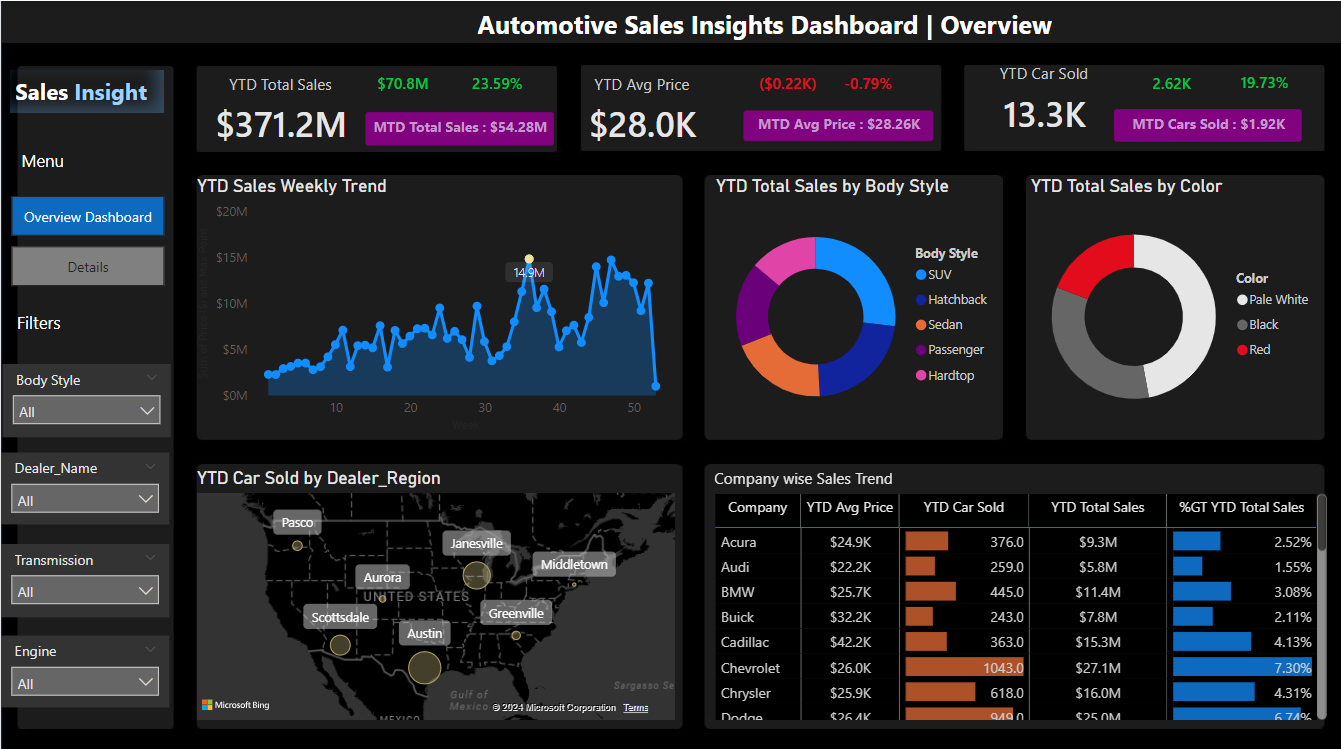

This screenshot's page, from the dashboard's own definition file:
{"tool":"powerbi","page":{"name":"Overview Dashboard","canvas":[1280,720],"ordinal":0},"visuals":[{"type":"card","title":"YTD Total Sales","fields":{"Values":["car_data.YTD Total Sales"]},"box":[182.3,68.9,170.1,77],"z":0},{"type":"card","fields":{"Values":["car_data.Sales Difference"]},"box":[330,54.5,108.2,52.7],"z":1000},{"type":"card","fields":{"Values":["car_data.YOY Sales Growth"]},"box":[419.1,54.5,108.2,52.7],"z":2000},{"type":"card","fields":{"Values":["car_data.MTD KPI"]},"box":[348.3,106.6,179.7,32],"z":3000},{"type":"card","title":"YTD Avg Price","fields":{"Values":["car_data.YTD Avg Price"]},"box":[527.1,68.6,170,77.1],"z":4000},{"type":"card","fields":{"Values":["car_data.Avg Price Diff"]},"box":[696.7,54.7,109.4,52.7],"z":5000},{"type":"card","fields":{"Values":["car_data.YOY Avg Price Growth"]},"box":[773,52.5,108.2,54.1],"z":6000},{"type":"card","fields":{"Values":["car_data.MTD Avg Price KPI"]},"box":[709.1,104.5,181.2,29.6],"z":7000},{"type":"card","title":"YTD Car Sold","fields":{"Values":["car_data.YTD Car Sold"]},"box":[911.4,58.9,170.2,77.9],"z":8000},{"type":"card","fields":{"Values":["car_data.Cars Sold Diff"]},"box":[1062.8,54,109.8,52.3],"z":9000},{"type":"card","fields":{"Values":["car_data.YOY Car Sold Growth"]},"box":[1151.6,52.5,109.8,52.5],"z":10000},{"type":"card","fields":{"Values":["car_data.MTD Cars Sold KPI"]},"box":[1062.8,102.8,179.5,31.4],"z":11000},{"type":"areaChart","title":"YTD Sales Weekly Trend","fields":{"Category":["Calendar Table.Week"],"Y":["Sum(car_data.Price ($))","car_data.Max Point"]},"box":[182.6,166.7,465.2,249.3],"z":12000},{"type":"donutChart","fields":{"Category":["car_data.Body Style"],"Y":["car_data.YTD Total Sales"]},"box":[676.8,166.7,278.3,249.3],"z":13000},{"type":"donutChart","fields":{"Y":["car_data.YTD Total Sales"],"Category":["car_data.Color"]},"box":[978.3,166.7,284.1,249.3],"z":14000},{"type":"map","fields":{"Category":["car_data.Dealer_Region"],"Size":["car_data.YTD Car Sold"]},"box":[182,446,466,246],"z":15000},{"type":"tableEx","title":"Company wise Sales Trend","fields":{"Values":["car_data.Company","car_data.YTD Avg Price","car_data.YTD Car Sold","car_data.YTD Total Sales1","car_data.YTD Total Sales"]},"box":[676.2,445.8,595,245.6],"z":16000},{"type":"textbox","box":[450.1,0,583.8,52.5],"z":17000},{"type":"slicer","fields":{"Values":["car_data.Body Style"]},"box":[1.6,346.8,160.7,70],"z":18000},{"type":"slicer","fields":{"Values":["car_data.Dealer_Name"]},"box":[0,431.1,160.7,68.4],"z":19000},{"type":"slicer","fields":{"Values":["car_data.Transmission"]},"box":[0,518.5,160.7,70],"z":20000},{"type":"slicer","fields":{"Values":["car_data.Engine"]},"box":[0,606,160.7,68.4],"z":21000},{"type":"textbox","box":[9.5,291.1,84.3,38.2],"z":22000},{"type":"pageNavigator","box":[9.5,186.1,146.3,87.5],"z":23000},{"type":"textbox","box":[14.3,136.8,66.8,38.2],"z":24000},{"type":"textbox","box":[8,65.2,146.3,41.4],"z":25000}]}

Visuals, with their boxes on the page's 1280x720 design canvas (x1, y1, x2, y2). These are canvas units, not pixel positions in the 1341x749 screenshot, which may show the page scaled, cropped or inside an application window:
"YTD Total Sales" card: [x1=182, y1=69, x2=352, y2=146]
card - car_data.Sales Difference: [x1=330, y1=54, x2=438, y2=107]
card - car_data.YOY Sales Growth: [x1=419, y1=54, x2=527, y2=107]
card - car_data.MTD KPI: [x1=348, y1=107, x2=528, y2=139]
"YTD Avg Price" card: [x1=527, y1=69, x2=697, y2=146]
card - car_data.Avg Price Diff: [x1=697, y1=55, x2=806, y2=107]
card - car_data.YOY Avg Price Growth: [x1=773, y1=52, x2=881, y2=107]
card - car_data.MTD Avg Price KPI: [x1=709, y1=104, x2=890, y2=134]
"YTD Car Sold" card: [x1=911, y1=59, x2=1082, y2=137]
card - car_data.Cars Sold Diff: [x1=1063, y1=54, x2=1173, y2=106]
card - car_data.YOY Car Sold Growth: [x1=1152, y1=52, x2=1261, y2=105]
card - car_data.MTD Cars Sold KPI: [x1=1063, y1=103, x2=1242, y2=134]
"YTD Sales Weekly Trend" areaChart: [x1=183, y1=167, x2=648, y2=416]
donutChart - car_data.Body Style x car_data.YTD Total Sales: [x1=677, y1=167, x2=955, y2=416]
donutChart - car_data.YTD Total Sales x car_data.Color: [x1=978, y1=167, x2=1262, y2=416]
map - car_data.Dealer_Region x car_data.YTD Car Sold: [x1=182, y1=446, x2=648, y2=692]
"Company wise Sales Trend" tableEx: [x1=676, y1=446, x2=1271, y2=691]
textbox: [x1=450, y1=0, x2=1034, y2=52]
slicer - car_data.Body Style: [x1=2, y1=347, x2=162, y2=417]
slicer - car_data.Dealer_Name: [x1=0, y1=431, x2=161, y2=500]
slicer - car_data.Transmission: [x1=0, y1=518, x2=161, y2=588]
slicer - car_data.Engine: [x1=0, y1=606, x2=161, y2=674]
textbox: [x1=10, y1=291, x2=94, y2=329]
pageNavigator: [x1=10, y1=186, x2=156, y2=274]
textbox: [x1=14, y1=137, x2=81, y2=175]
textbox: [x1=8, y1=65, x2=154, y2=107]
